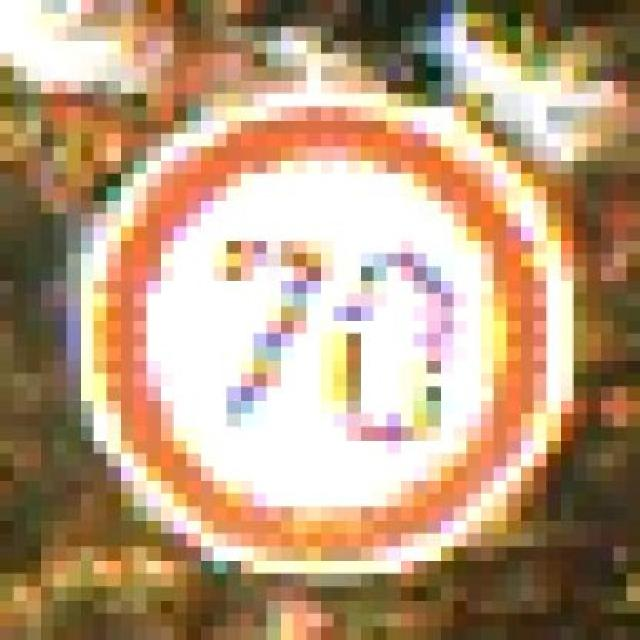forb_speed_over_70: (91, 99, 554, 565)
